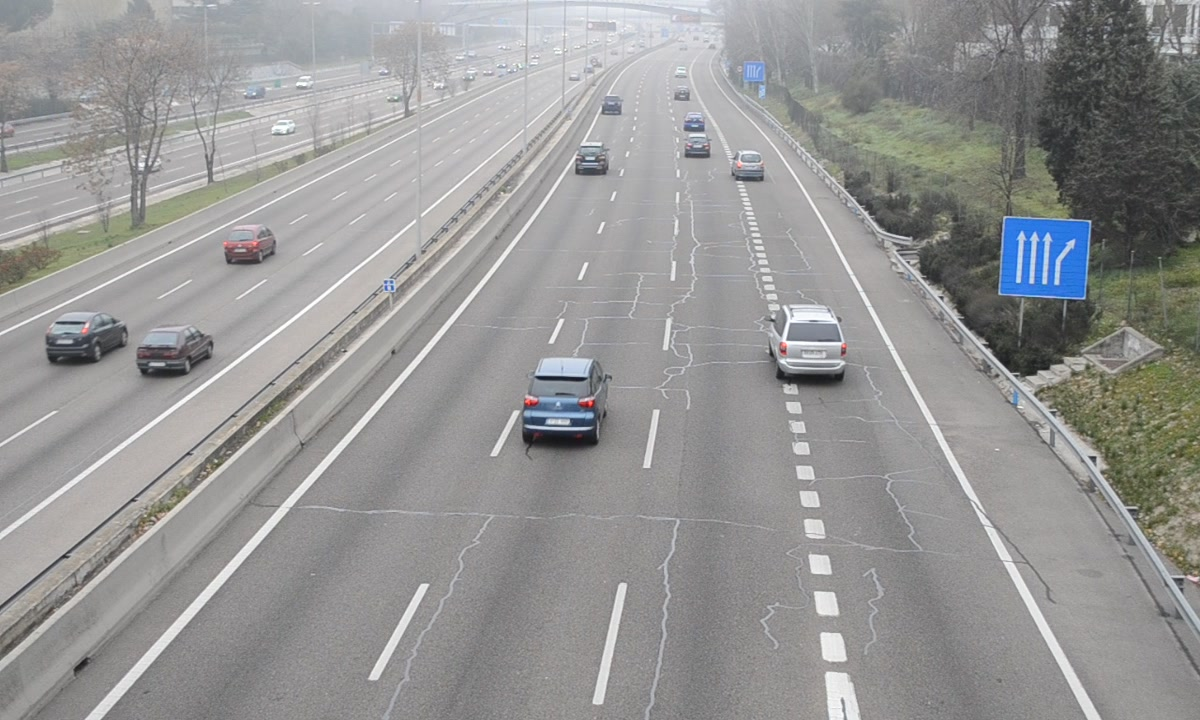car: (520, 358, 608, 439), (772, 305, 847, 377), (576, 141, 609, 176), (731, 149, 765, 182), (685, 132, 712, 159)
